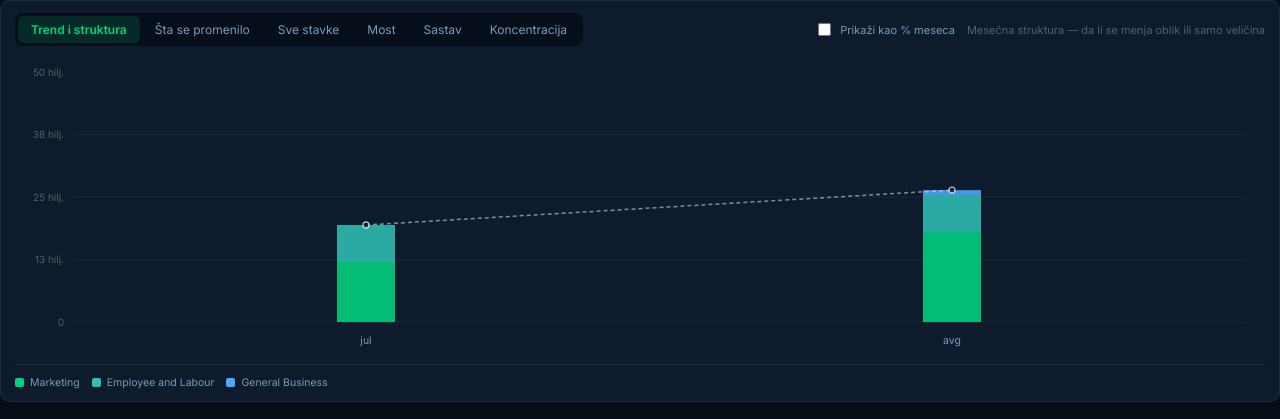
Test: composition is the branch tree, folded › offers both bulk controls where the tree is
Step 1. Click the button "Sastav" → [443, 30], box [411,16,475,43]
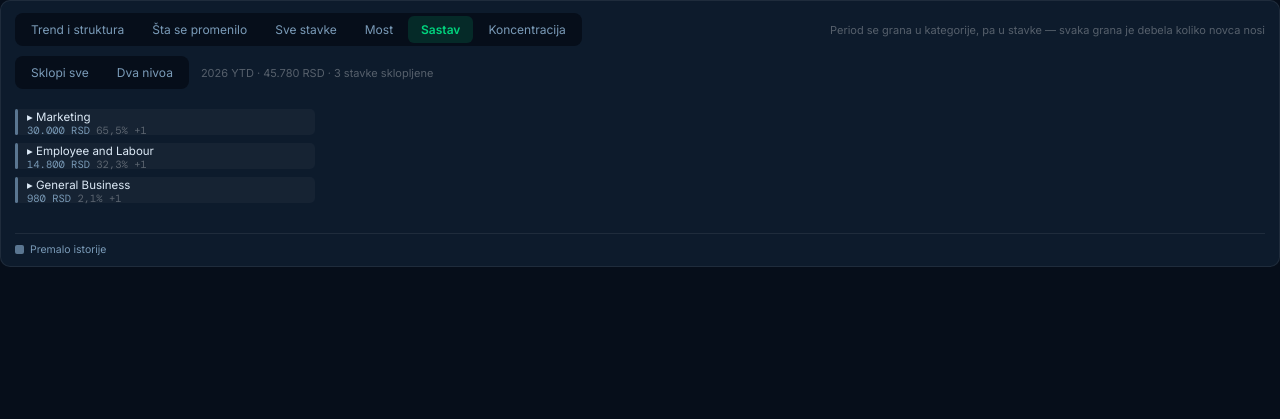
Expected: the button "Sklopi sve" is shown, [18,59,102,86]
Expected: the button "Dva nivoa" is shown, [104,59,186,86]
